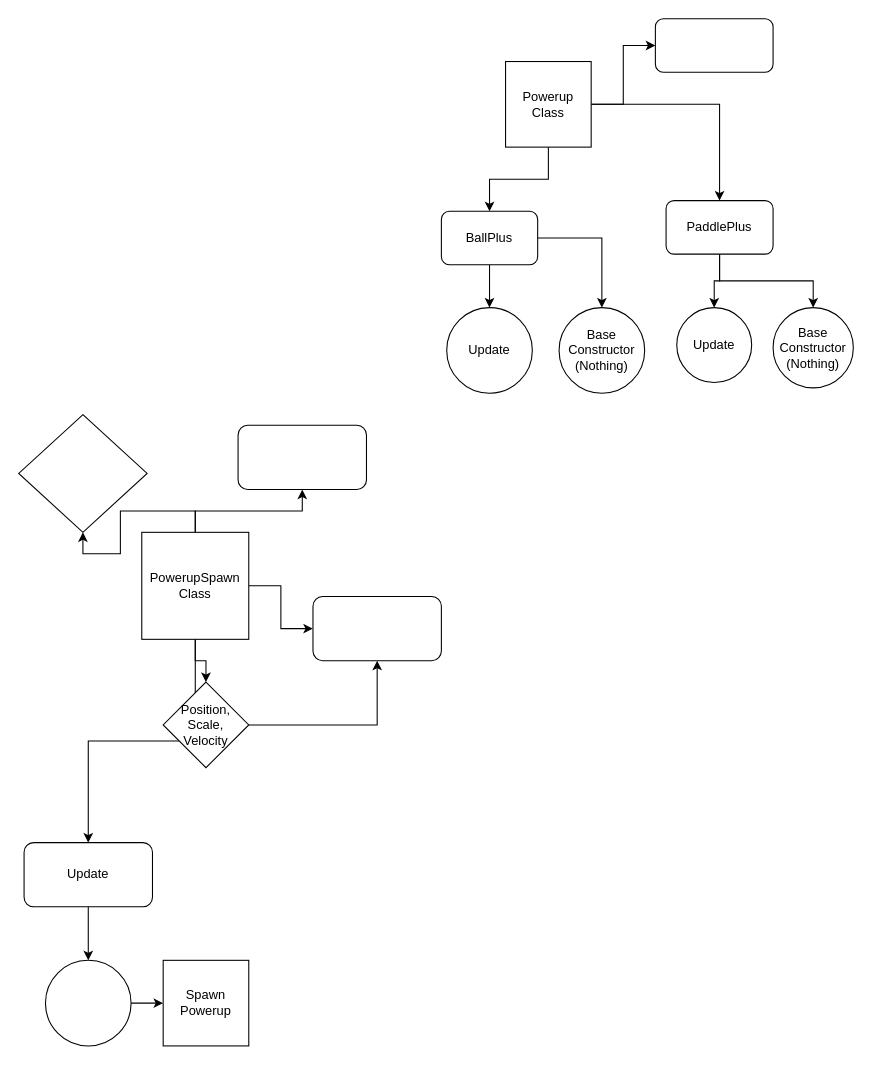
The diagram is 872 pixels wide and 1065 high, and some of its shapes have lost their labels. Here are the shapes that lost their labels. From the top down, the box of each, then its label:
(654, 18, 773, 72): Update (Nothing)
(18, 414, 147, 532): Powerup List & Active Powerup
(237, 424, 366, 490): Spawn Function
(312, 595, 441, 661): Base Constructor
(44, 959, 131, 1046): Check current powerup
